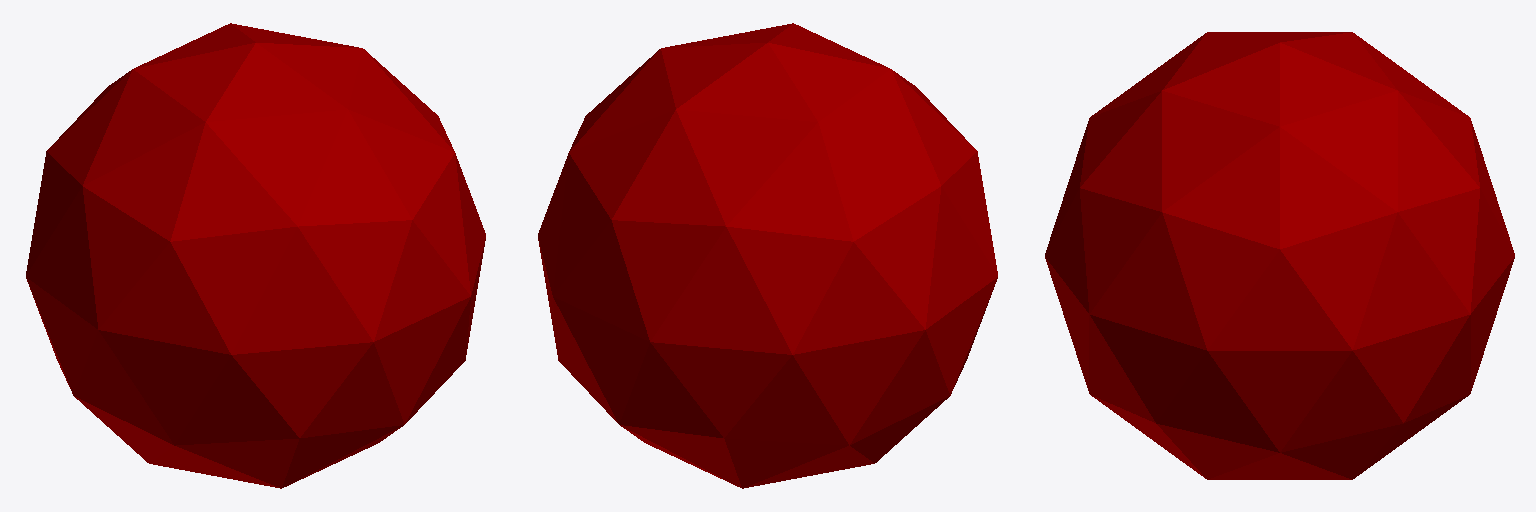
The model's file is hotdog.obj.
3 views of the same model, side by side, from view 1: azimuth 30°, elevation 25°; view 2: azimuth 150°, elevation 25°; view 3: azimuth 270°, elevation 25° (orthographic).
Parts seen in each view (by area): view 1: Icosphere.002; view 2: Icosphere.002; view 3: Icosphere.002.
Boxes of the visible parts, x1=… form: Icosphere.002: x1=26, y1=23, x2=485, y2=488; Icosphere.002: x1=538, y1=23, x2=997, y2=488; Icosphere.002: x1=1045, y1=32, x2=1514, y2=479.
Size of the model in its own units: 1.9 by 2 by 2.